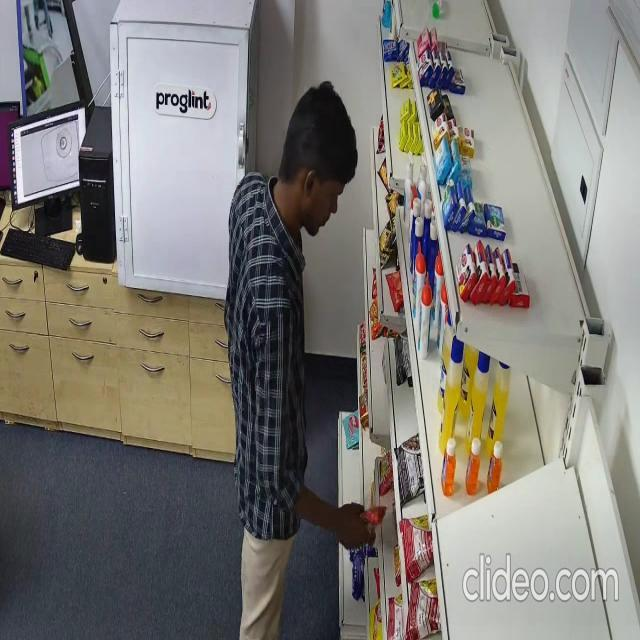normal: (225, 79, 386, 640)
